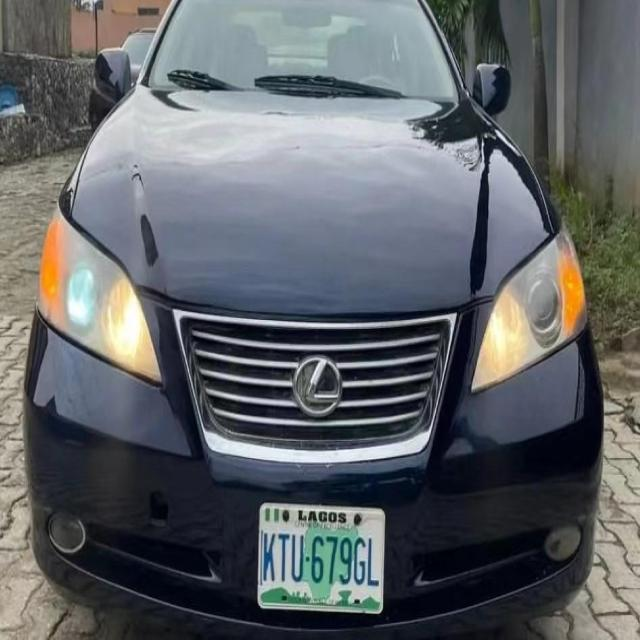Nigerian License Plate - vdataset benjamin-daria: (256, 498, 388, 620)
